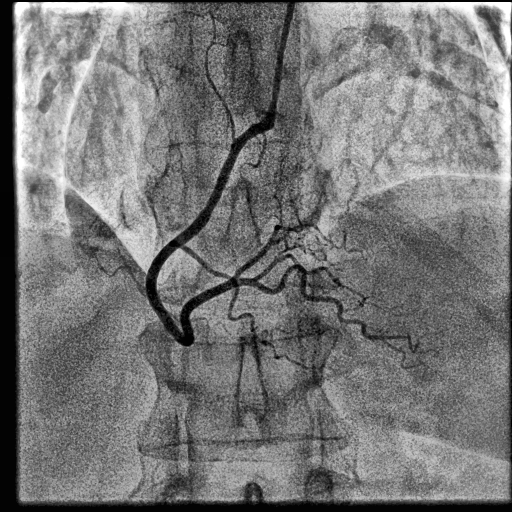pborca: (234, 224, 281, 279)
pda: (240, 264, 365, 336)
rca: (146, 117, 274, 346)
